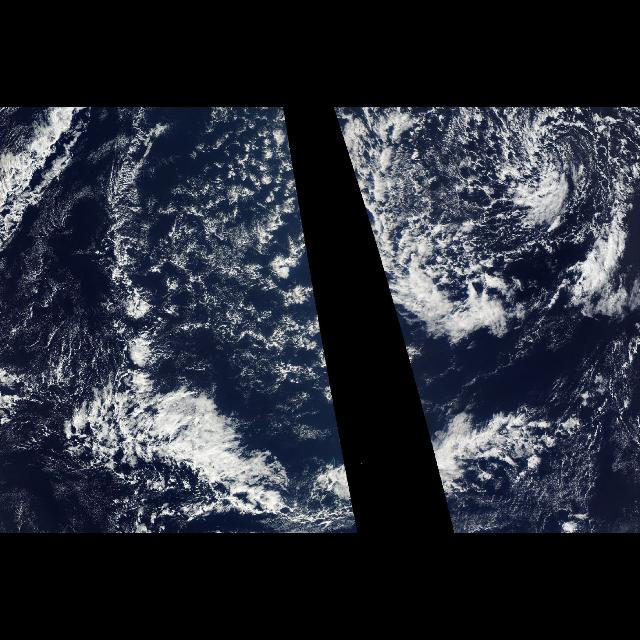Gravel: (366, 110, 640, 300), (174, 136, 336, 404)
Sugar: (156, 113, 300, 410)
